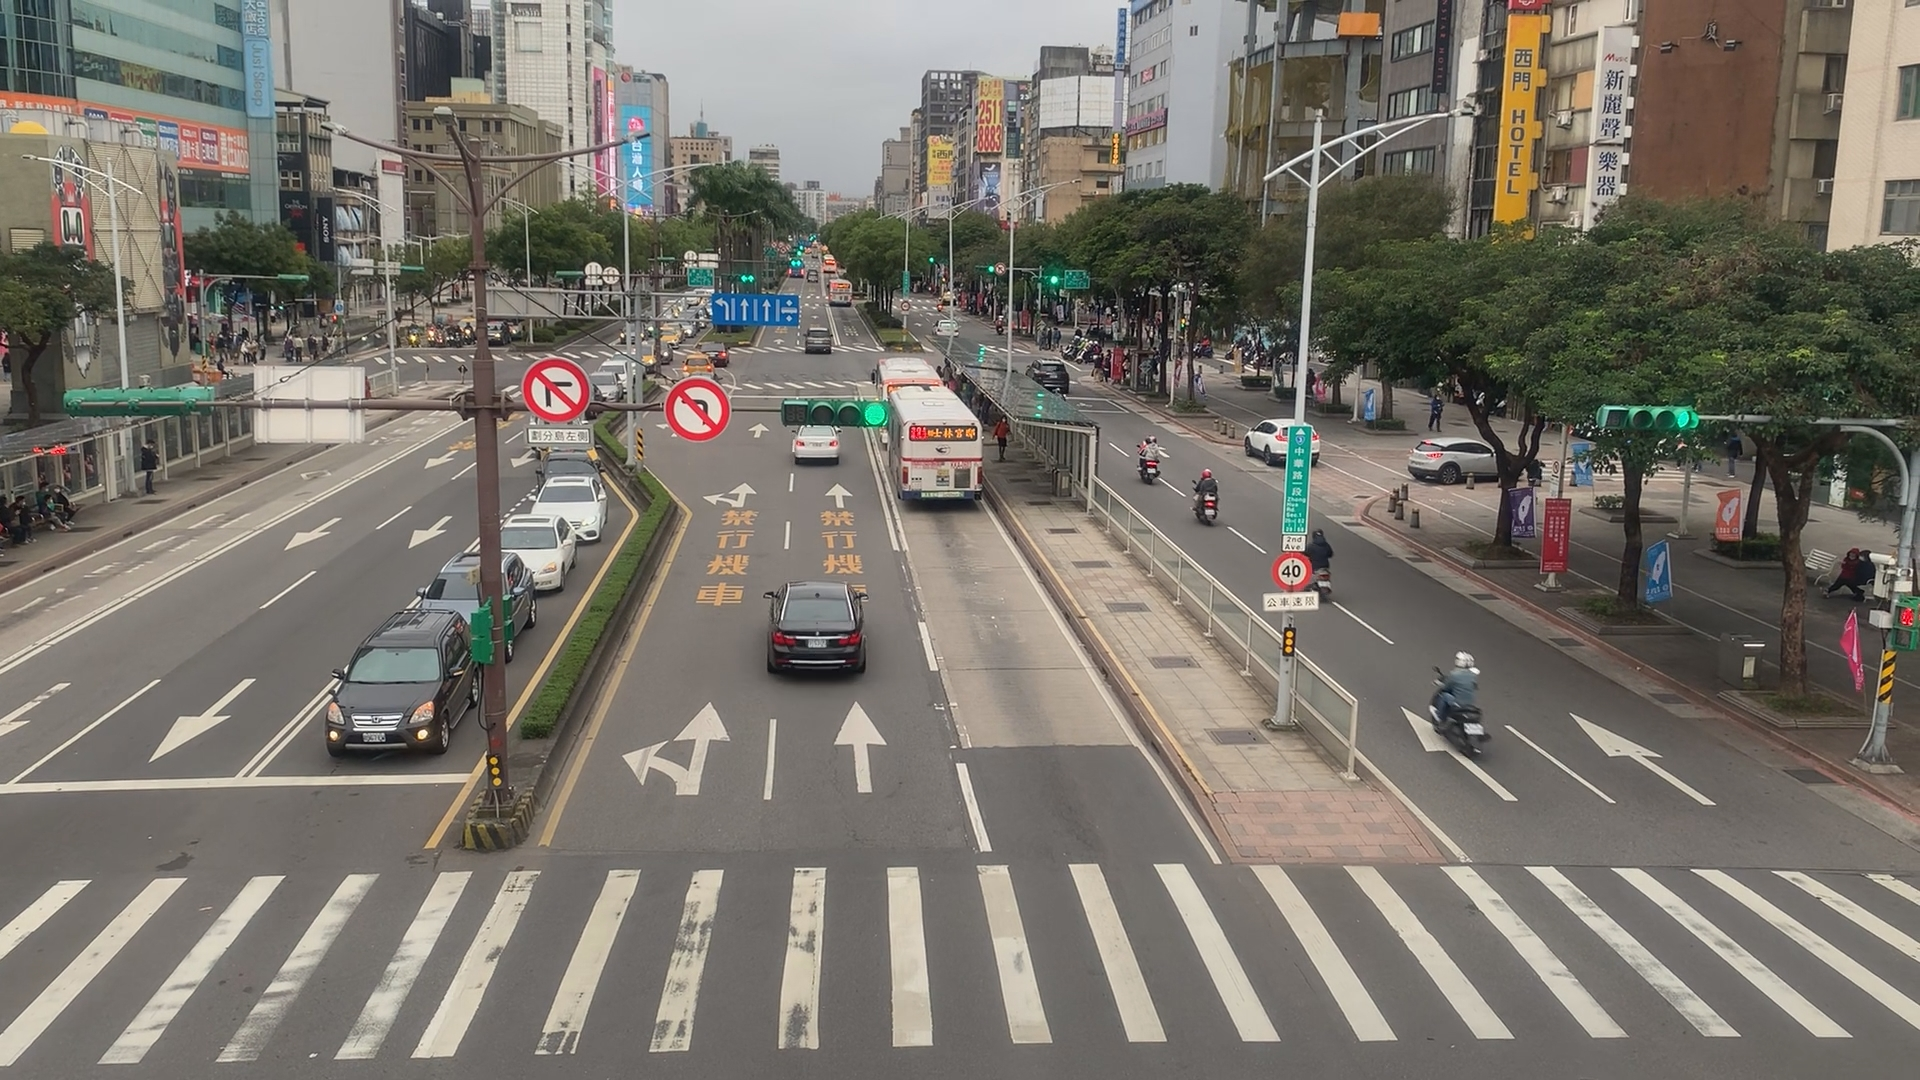Bus: (877, 385, 1017, 512), (866, 352, 949, 419), (822, 274, 862, 322)
Business Passenger Car: (680, 353, 713, 384)
Motorcycle: (1437, 641, 1495, 749), (1127, 423, 1179, 495), (1192, 458, 1237, 527), (1294, 525, 1329, 611)
Private Passenger Car: (315, 609, 467, 742), (752, 572, 868, 684), (425, 550, 527, 670), (1414, 415, 1543, 504), (525, 467, 637, 560), (464, 506, 572, 593), (1244, 406, 1329, 477), (525, 440, 608, 504), (785, 422, 855, 476), (1015, 353, 1075, 400), (800, 319, 837, 361), (579, 368, 620, 404), (924, 313, 967, 345), (700, 339, 731, 367)
